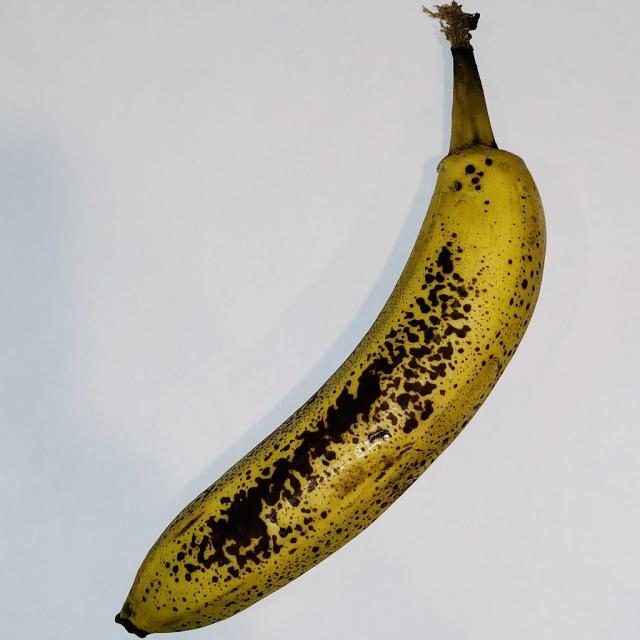Banana: (114, 0, 549, 638)
